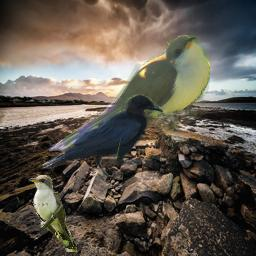Crow: (42, 94, 163, 180)
Cuckoo: (47, 35, 210, 151), (28, 174, 77, 252)
